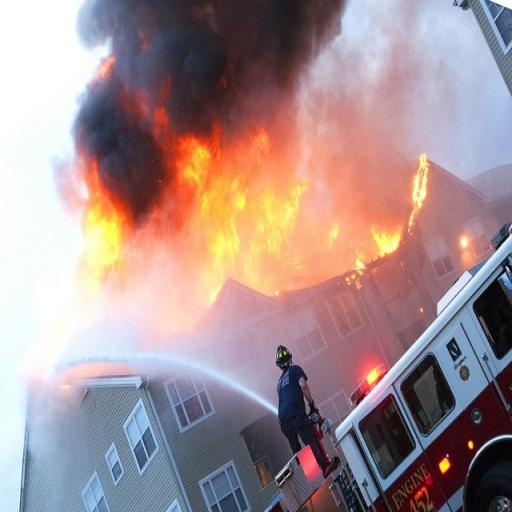fire: (74, 2, 383, 333), (76, 52, 400, 326), (75, 26, 310, 309), (127, 101, 307, 310), (148, 112, 325, 310), (24, 160, 126, 377), (178, 129, 307, 297), (24, 198, 124, 378), (179, 137, 245, 297), (21, 256, 103, 378), (181, 138, 246, 262), (244, 183, 307, 287), (80, 148, 125, 292), (196, 178, 244, 286), (83, 170, 125, 292), (23, 281, 75, 378), (30, 360, 140, 398), (253, 183, 307, 255), (84, 202, 123, 288), (56, 361, 133, 389), (180, 137, 211, 194), (408, 154, 428, 232), (349, 364, 386, 405), (297, 445, 322, 484), (372, 227, 402, 256), (346, 252, 366, 290), (250, 128, 269, 165), (366, 364, 386, 388), (97, 56, 115, 80), (328, 225, 339, 248), (138, 29, 148, 51), (209, 285, 221, 303), (439, 456, 451, 473), (355, 254, 365, 272), (460, 236, 468, 249), (59, 384, 71, 392)
smoke: (73, 0, 343, 223)
